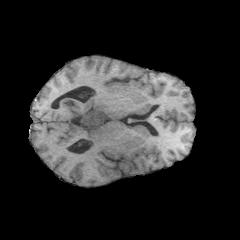glioma: (77, 103, 117, 147)
